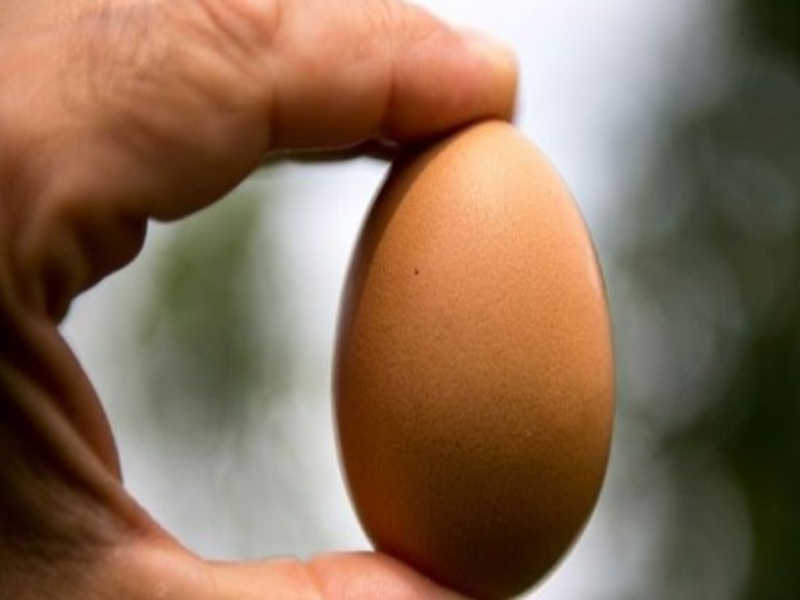Huevo: (335, 119, 617, 600)
